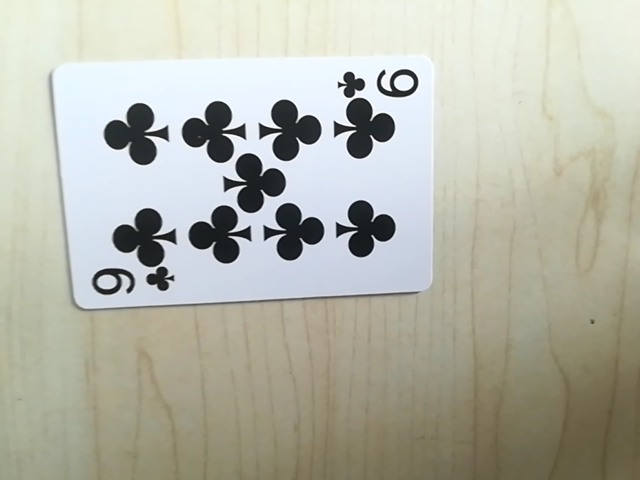mh 9: (83, 260, 178, 304), (336, 61, 421, 101)
